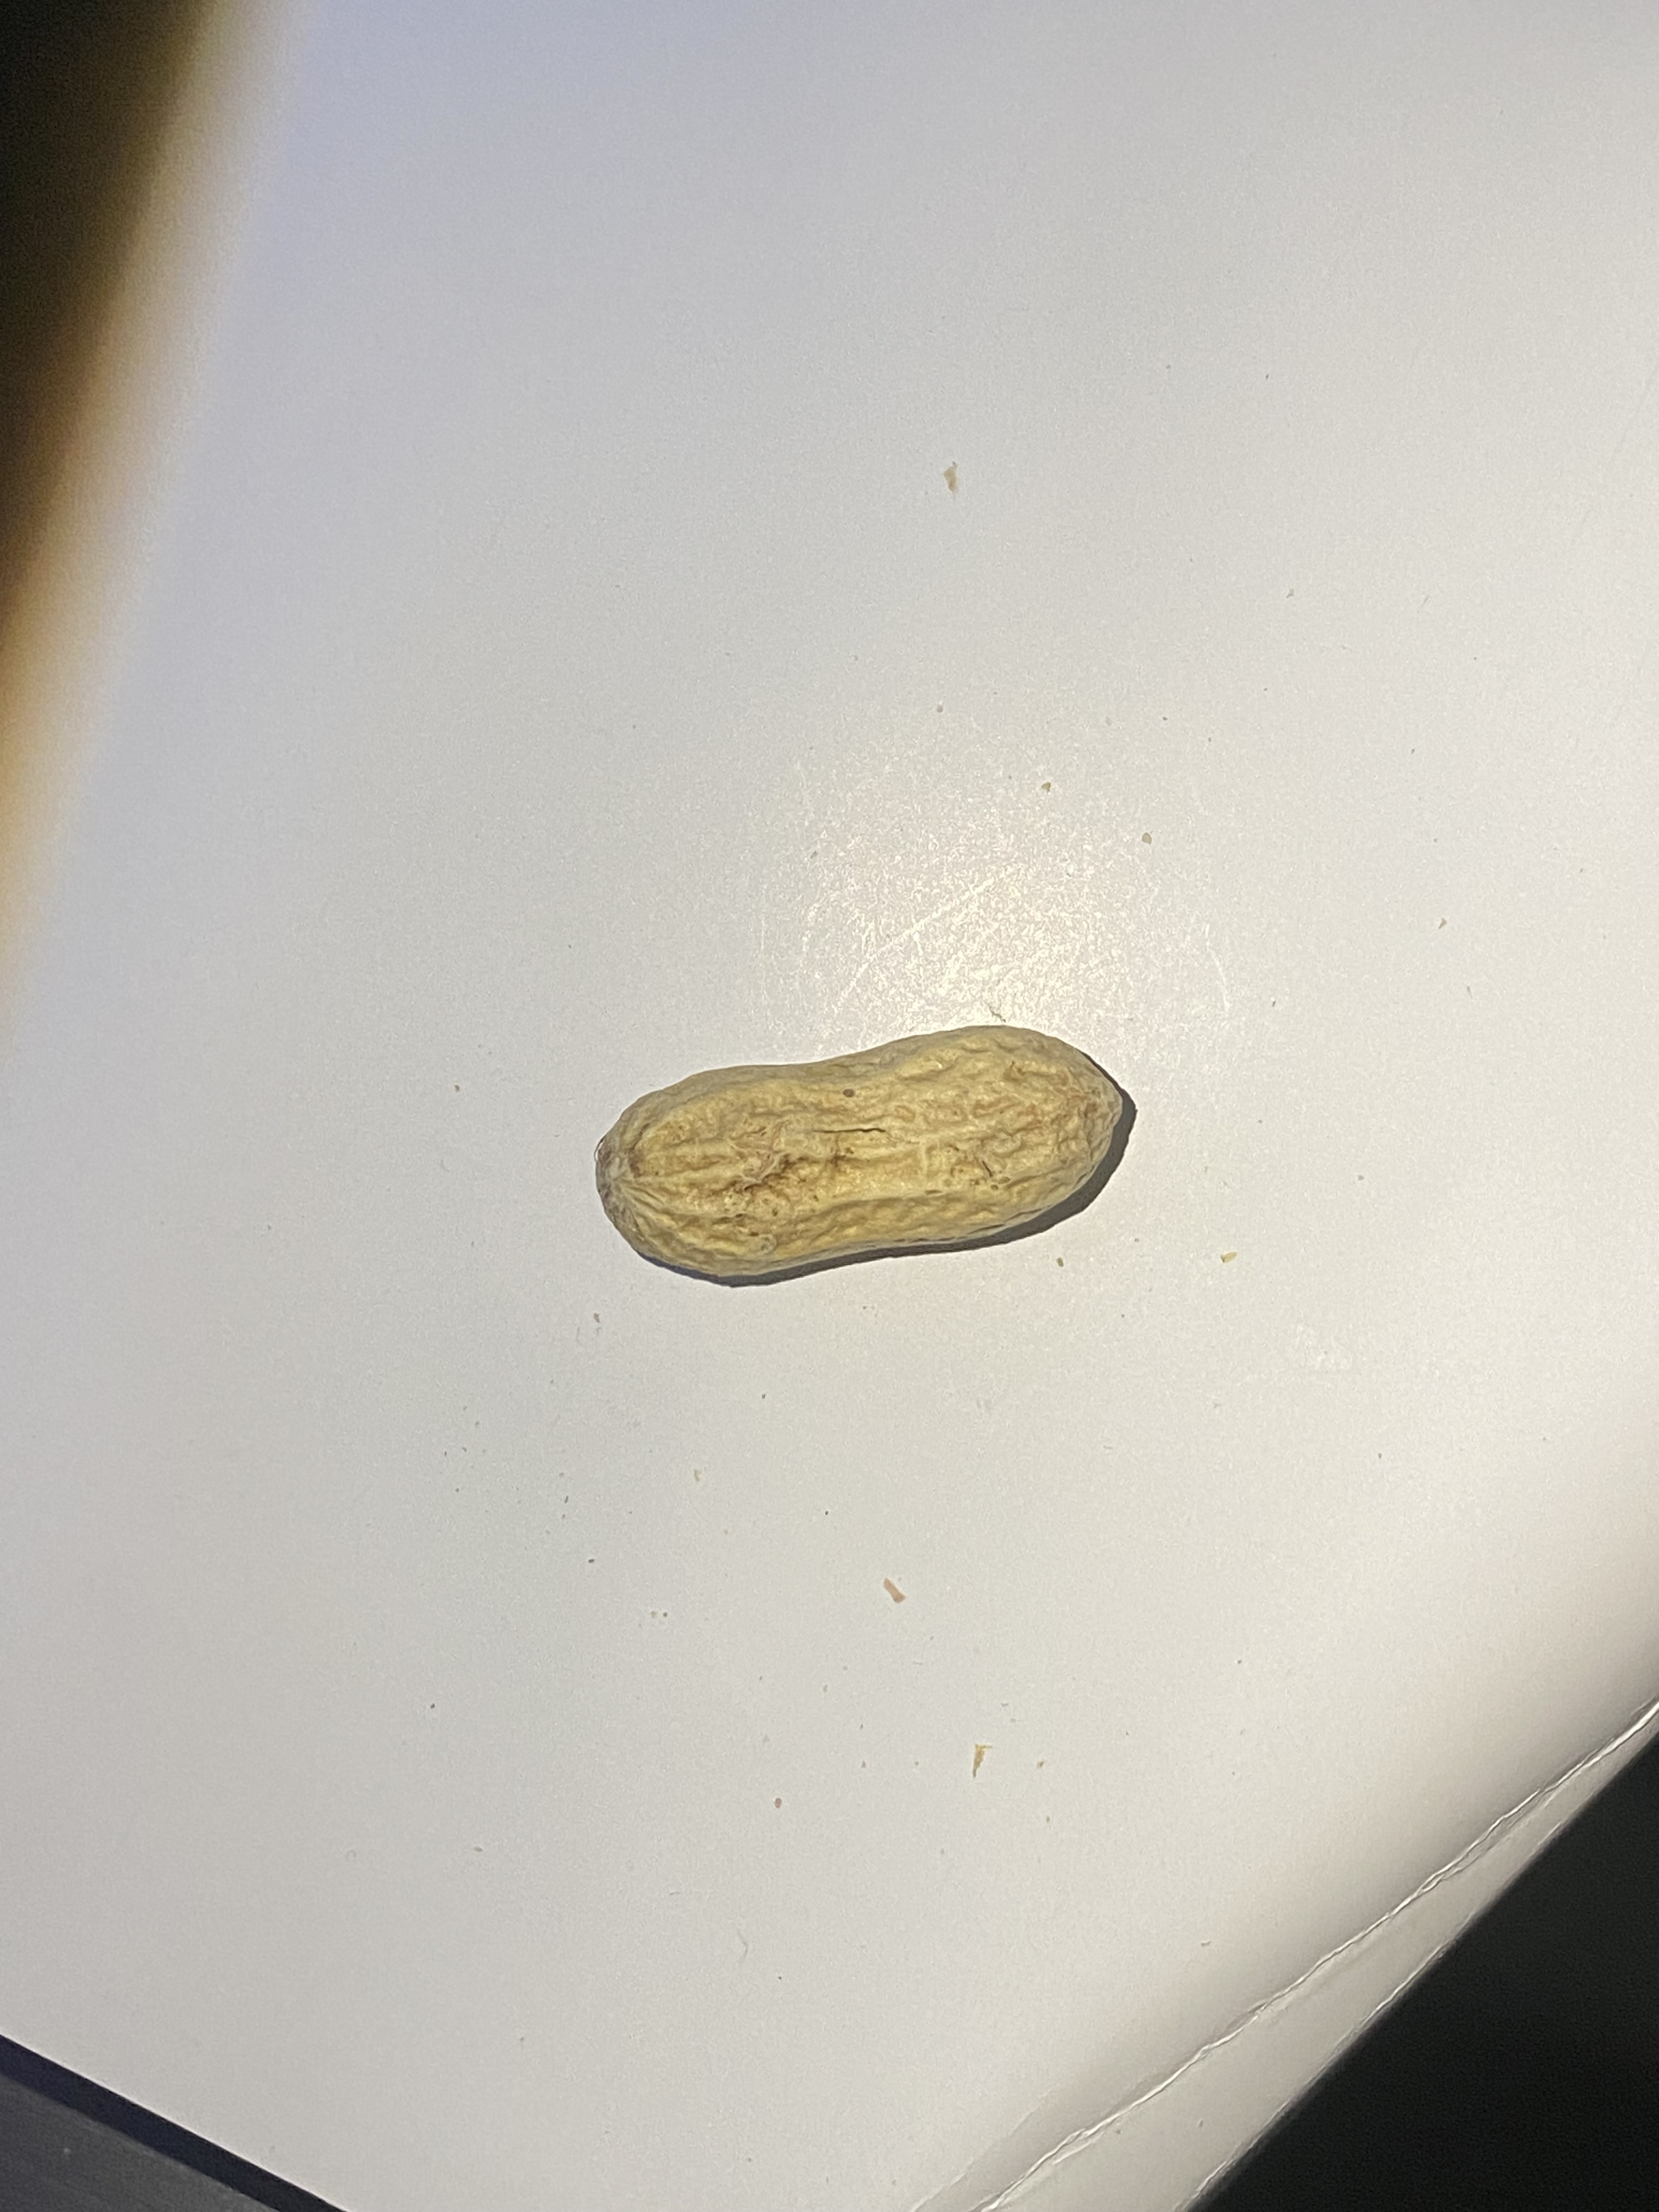kacang2: (544, 996, 1168, 1301)
